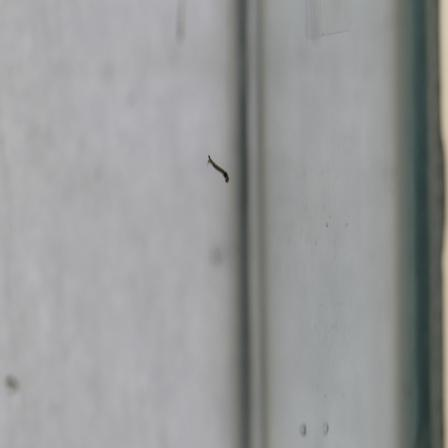Jentik-Nyamuk: (202, 150, 235, 189)
